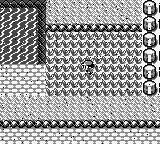captura: (46, 32, 142, 96), (1, 9, 37, 65)
main: (81, 60, 94, 73)
mo: (1, 0, 46, 64)
no-caminable: (143, 2, 158, 95)
salto: (0, 120, 160, 128), (46, 24, 142, 31)
